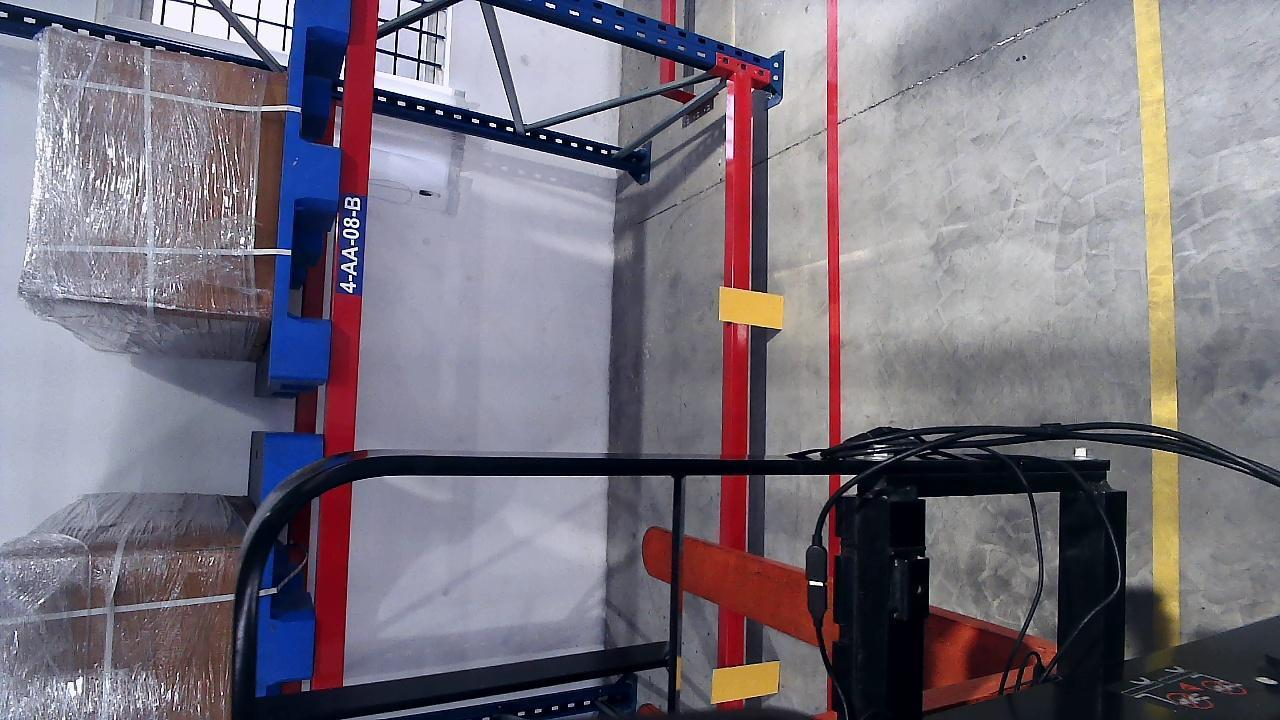red_line: (820, 0, 844, 442)
yellow_line: (1130, 0, 1180, 644)
